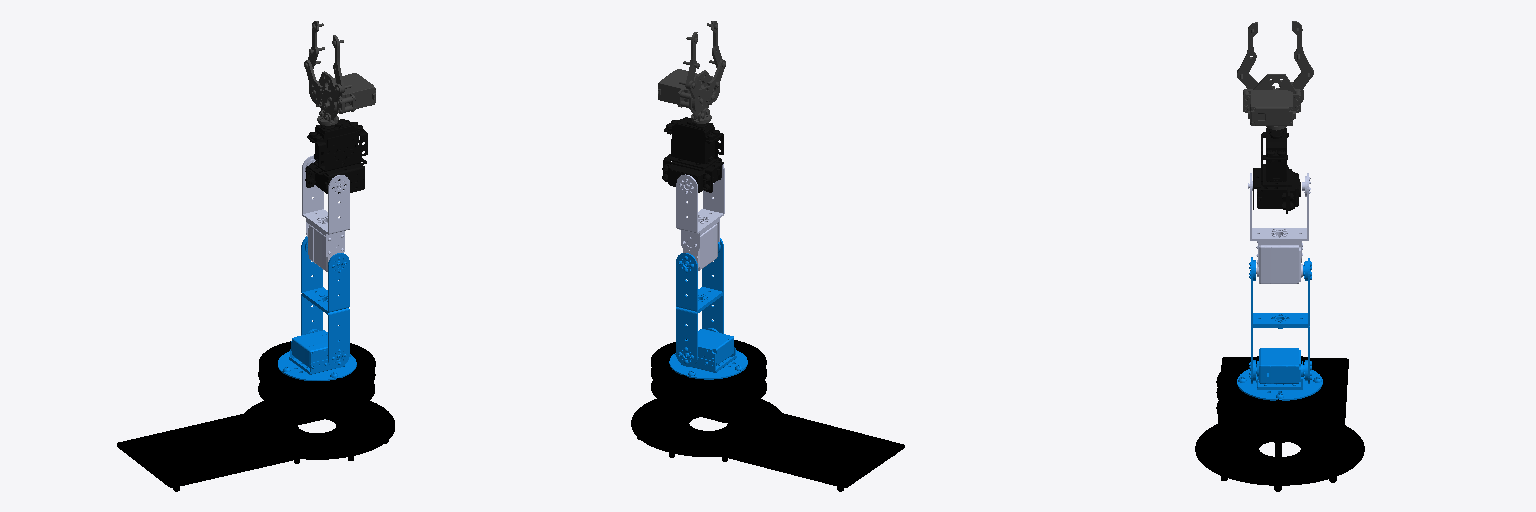
robot.urdf — learm_robot_description_v4:
<?xml version="1.0" encoding="utf-8"?>
<!-- This URDF was automatically created by SolidWorks to URDF Exporter! Originally created by [author] ([email redacted]) 
     Commit Version: 1.5.1-0-g916b5db  Build Version: 1.5.7152.31018
     For more information, please see http://wiki.ros.org/sw_urdf_exporter -->
<robot
  name="learm_robot_description_v4">
  <link
    name="base_link">
    <inertial>
      <origin
        xyz="-0.029223 0.00074741 -0.016012"
        rpy="0 0 0" />
      <mass
        value="0.15607" />
      <inertia
        ixx="0.0001601"
        ixy="8.2843E-06"
        ixz="-1.1301E-08"
        iyy="0.00048352"
        iyz="2.9209E-10"
        izz="0.00064042" />
    </inertial>
    <visual>
      <origin
        xyz="0 0 0"
        rpy="0 0 0" />
      <geometry>
        <mesh
          filename="package://learm_robot_description_v4/meshes/base_link.STL" />
      </geometry>
      <material
        name="">
        <color
          rgba="0 0 0 1" />
      </material>
    </visual>
    <collision>
      <origin
        xyz="0 0 0"
        rpy="0 0 0" />
      <geometry>
        <mesh
          filename="package://learm_robot_description_v4/meshes/base_link.STL" />
      </geometry>
    </collision>
  </link>
  <link
    name="link1">
    <inertial>
      <origin
        xyz="-4.1336E-05 0.0013101 0.0055727"
        rpy="0 0 0" />
      <mass
        value="0.047686" />
      <inertia
        ixx="8.4198E-06"
        ixy="1.6346E-08"
        ixz="6.8248E-09"
        iyy="1.1108E-05"
        iyz="3.221E-11"
        izz="1.751E-05" />
    </inertial>
    <visual>
      <origin
        xyz="0 0 0"
        rpy="0 0 0" />
      <geometry>
        <mesh
          filename="package://learm_robot_description_v4/meshes/link1.STL" />
      </geometry>
      <material
        name="">
        <color
          rgba="0.027451 0.56471 0.94902 1" />
      </material>
    </visual>
    <collision>
      <origin
        xyz="0 0 0"
        rpy="0 0 0" />
      <geometry>
        <mesh
          filename="package://learm_robot_description_v4/meshes/link1.STL" />
      </geometry>
    </collision>
  </link>
  <joint
    name="joint1"
    type="revolute">
    <origin
      xyz="-0.00043478 6.7263E-05 0.028"
      rpy="0 0 0" />
    <parent
      link="base_link" />
    <child
      link="link1" />
    <axis
      xyz="0 0 1" />
    <limit
      lower="-1.57"
      upper="1.57"
      effort="100"
      velocity="3" />
  </joint>
  <link
    name="link2">
    <inertial>
      <origin
        xyz="-0.022227 0.051973 5.4678E-06"
        rpy="0 0 0" />
      <mass
        value="0.020865" />
      <inertia
        ixx="7.3451E-06"
        ixy="-9.3878E-13"
        ixz="1.4823E-12"
        iyy="1.0406E-05"
        iyz="1.0996E-13"
        izz="1.5854E-05" />
    </inertial>
    <visual>
      <origin
        xyz="0 0 0"
        rpy="0 0 0" />
      <geometry>
        <mesh
          filename="package://learm_robot_description_v4/meshes/link2.STL" />
      </geometry>
      <material
        name="">
        <color
          rgba="0.027451 0.56471 0.94902 1" />
      </material>
    </visual>
    <collision>
      <origin
        xyz="0 0 0"
        rpy="0 0 0" />
      <geometry>
        <mesh
          filename="package://learm_robot_description_v4/meshes/link2.STL" />
      </geometry>
    </collision>
  </link>
  <joint
    name="joint2"
    type="revolute">
    <origin
      xyz="0.0099863 0.023439 0.015999"
      rpy="1.5708 0 1.5703" />
    <parent
      link="link1" />
    <child
      link="link2" />
    <axis
      xyz="-1 0 0" />
    <limit
      lower="-1.57"
      upper="1.57"
      effort="0"
      velocity="0" />
  </joint>
  <link
    name="link3">
    <inertial>
      <origin
        xyz="-0.021563 0.023583 1.4629E-05"
        rpy="0 0 0" />
      <mass
        value="0.037481" />
      <inertia
        ixx="8.2544E-06"
        ixy="-3.4999E-08"
        ixz="2.9902E-11"
        iyy="7.2815E-06"
        iyz="3.1769E-12"
        izz="1.2615E-05" />
    </inertial>
    <visual>
      <origin
        xyz="0 0 0"
        rpy="0 0 0" />
      <geometry>
        <mesh
          filename="package://learm_robot_description_v4/meshes/link3.STL" />
      </geometry>
      <material
        name="">
        <color
          rgba="0.79216 0.81961 0.92941 1" />
      </material>
    </visual>
    <collision>
      <origin
        xyz="0 0 0"
        rpy="0 0 0" />
      <geometry>
        <mesh
          filename="package://learm_robot_description_v4/meshes/link3.STL" />
      </geometry>
    </collision>
  </link>
  <joint
    name="joint3"
    type="revolute">
    <origin
      xyz="0 0.10401 0"
      rpy="0 0 0" />
    <parent
      link="link2" />
    <child
      link="link3" />
    <axis
      xyz="-1 0 0" />
    <limit
      lower="-1.57"
      upper="1.57"
      effort="0"
      velocity="0" />
  </joint>
  <link
    name="link4">
    <inertial>
      <origin
        xyz="-0.027626 0.020372 0.0097872"
        rpy="0 0 0" />
      <mass
        value="0.0231" />
      <inertia
        ixx="5.9535E-06"
        ixy="-3.8287E-15"
        ixz="2.1344E-08"
        iyy="5.9538E-06"
        iyz="2.1386E-08"
        izz="2.8136E-06" />
    </inertial>
    <visual>
      <origin
        xyz="0 0 0"
        rpy="0 0 0" />
      <geometry>
        <mesh
          filename="package://learm_robot_description_v4/meshes/link4.STL" />
      </geometry>
      <material
        name="">
        <color
          rgba="0.098039 0.098039 0.098039 1" />
      </material>
    </visual>
    <collision>
      <origin
        xyz="0 0 0"
        rpy="0 0 0" />
      <geometry>
        <mesh
          filename="package://learm_robot_description_v4/meshes/link4.STL" />
      </geometry>
    </collision>
  </link>
  <joint
    name="joint4"
    type="revolute">
    <origin
      xyz="0 0.088414 0.00074256"
      rpy="0 0 0" />
    <parent
      link="link3" />
    <child
      link="link4" />
    <axis
      xyz="1 0 0" />
    <limit
      lower="-1.57"
      upper="1.57"
      effort="0"
      velocity="0" />
  </joint>
  <link
    name="link5">
    <inertial>
      <origin
        xyz="-0.0025716 0.022237 0.0077412"
        rpy="0 0 0" />
      <mass
        value="0.014908" />
      <inertia
        ixx="1.1411E-06"
        ixy="2.3012E-08"
        ixz="-2.1707E-08"
        iyy="2.1258E-06"
        iyz="7.8707E-12"
        izz="2.9076E-06" />
    </inertial>
    <visual>
      <origin
        xyz="0 0 0"
        rpy="0 0 0" />
      <geometry>
        <mesh
          filename="package://learm_robot_description_v4/meshes/link5.STL" />
      </geometry>
      <material
        name="">
        <color
          rgba="0.29804 0.29804 0.29804 1" />
      </material>
    </visual>
    <collision>
      <origin
        xyz="0 0 0"
        rpy="0 0 0" />
      <geometry>
        <mesh
          filename="package://learm_robot_description_v4/meshes/link5.STL" />
      </geometry>
    </collision>
  </link>
  <joint
    name="joint5"
    type="revolute">
    <origin
      xyz="-0.026969 0.063252 0"
      rpy="0 0 0" />
    <parent
      link="link4" />
    <child
      link="link5" />
    <axis
      xyz="0 1 0" />
    <limit
      lower="-1.57"
      upper="1.57"
      effort="0"
      velocity="0" />
  </joint>
  <link
    name="gripper-left">
    <inertial>
      <origin
        xyz="-0.0070468 0.02089 0.00024217"
        rpy="0 0 0" />
      <mass
        value="0.0039737" />
      <inertia
        ixx="6.1616E-07"
        ixy="4.7575E-08"
        ixz="-1.0894E-14"
        iyy="2.2552E-07"
        iyz="-3.0419E-14"
        izz="8.2069E-07" />
    </inertial>
    <visual>
      <origin
        xyz="0 0 0"
        rpy="0 0 0" />
      <geometry>
        <mesh
          filename="package://learm_robot_description_v4/meshes/gripper-left.STL" />
      </geometry>
      <material
        name="">
        <color
          rgba="0.29804 0.29804 0.29804 1" />
      </material>
    </visual>
    <collision>
      <origin
        xyz="0 0 0"
        rpy="0 0 0" />
      <geometry>
        <mesh
          filename="package://learm_robot_description_v4/meshes/gripper-left.STL" />
      </geometry>
    </collision>
  </link>
  <joint
    name="joint6"
    type="revolute">
    <origin
      xyz="-0.014 0.029 -0.0049001"
      rpy="0 0 0" />
    <parent
      link="link5" />
    <child
      link="gripper-left" />
    <axis
      xyz="0 0 1" />
    <limit
      lower="-1.57"
      upper="1.57"
      effort="0"
      velocity="0" />
  </joint>
  <link
    name="gripper-right">
    <inertial>
      <origin
        xyz="0.0058428 0.022369 0.0037804"
        rpy="0 0 0" />
      <mass
        value="0.0041667" />
      <inertia
        ixx="6.5457E-07"
        ixy="-4.5889E-08"
        ixz="-1.3925E-14"
        iyy="2.1201E-07"
        iyz="-1.5572E-13"
        izz="8.2785E-07" />
    </inertial>
    <visual>
      <origin
        xyz="0 0 0"
        rpy="0 0 0" />
      <geometry>
        <mesh
          filename="package://learm_robot_description_v4/meshes/gripper-right.STL" />
      </geometry>
      <material
        name="">
        <color
          rgba="0.29804 0.29804 0.29804 1" />
      </material>
    </visual>
    <collision>
      <origin
        xyz="0 0 0"
        rpy="0 0 0" />
      <geometry>
        <mesh
          filename="package://learm_robot_description_v4/meshes/gripper-right.STL" />
      </geometry>
    </collision>
  </link>
  <joint
    name="joint7"
    type="revolute">
    <origin
      xyz="0.014 0.029 -0.00822"
      rpy="0 0 0" />
    <parent
      link="link5" />
    <child
      link="gripper-right" />
    <axis
      xyz="0 0 -1" />
    <limit
      lower="-1.57"
      upper="1.57"
      effort="0"
      velocity="0" />
  </joint>
</robot>

--- Render facts (derived) ---
Views: 3 orthographic renders of the robot side by side, from view 1: azimuth 30°, elevation 25°; view 2: azimuth 150°, elevation 25°; view 3: azimuth 270°, elevation 25°.
Model learm_robot_description_v4 with 8 links and 7 joints (7 revolute), rooted at base_link, posed all joints at 0.
Links seen in each view (by area): view 1: base_link, link2, link3, link4, link1, link5, gripper-left, gripper-right; view 2: base_link, link2, link4, link3, link1, link5, gripper-right, gripper-left; view 3: base_link, link1, link3, link4, link5, link2, gripper-right, gripper-left.
Boxes of the visible links, bbox=[...] form: base_link: bbox=[117, 341, 394, 491]; link2: bbox=[301, 236, 349, 367]; link3: bbox=[302, 155, 349, 271]; link4: bbox=[305, 119, 367, 193]; link1: bbox=[278, 330, 356, 380]; link5: bbox=[317, 71, 375, 125]; gripper-left: bbox=[321, 35, 351, 113]; gripper-right: bbox=[304, 21, 324, 106]; base_link: bbox=[631, 339, 904, 491]; link2: bbox=[676, 238, 723, 366]; link4: bbox=[662, 117, 723, 192]; link3: bbox=[676, 164, 724, 270]; link1: bbox=[669, 329, 747, 379]; link5: bbox=[658, 69, 713, 123]; gripper-right: bbox=[679, 32, 707, 112]; gripper-left: bbox=[706, 21, 725, 104]; base_link: bbox=[1195, 356, 1364, 491]; link1: bbox=[1237, 348, 1322, 400]; link3: bbox=[1248, 173, 1310, 283]; link4: bbox=[1253, 128, 1300, 213]; link5: bbox=[1243, 74, 1300, 130]; link2: bbox=[1249, 257, 1311, 383]; gripper-right: bbox=[1276, 21, 1313, 102]; gripper-left: bbox=[1237, 22, 1274, 88].
Bounding box of the posed robot: 0.2842 × 0.1599 × 0.4585 m (x, y, z).
Meshes: 8 distinct files referenced, 8 mesh visuals loaded (8 binary STL).
